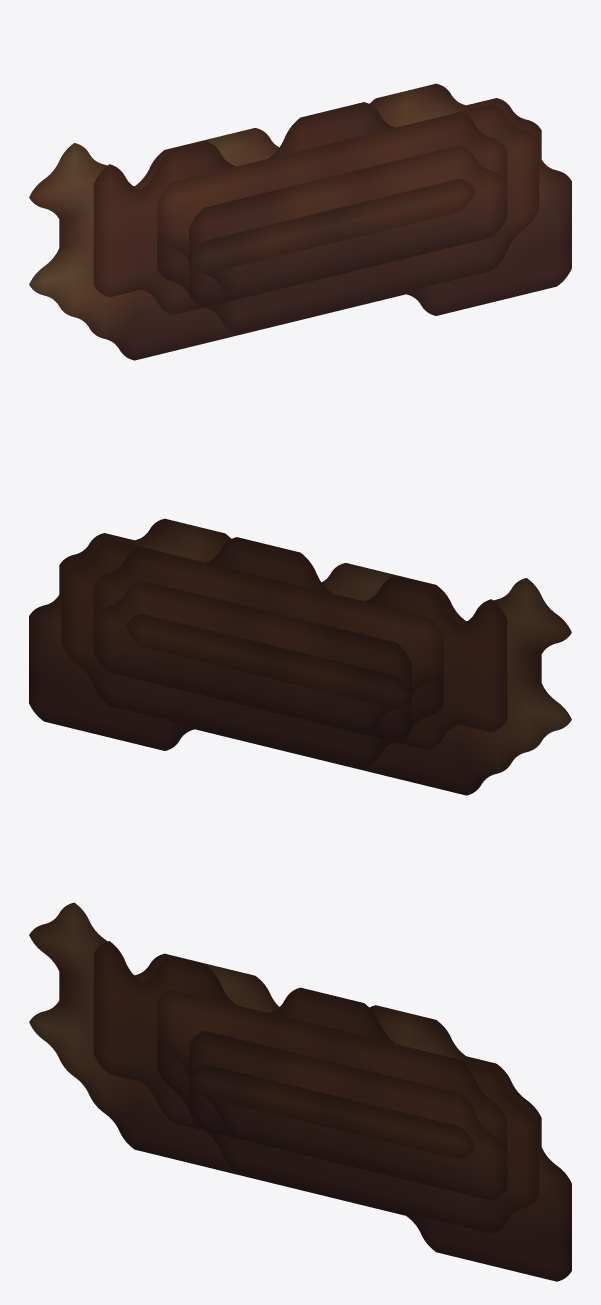
File: Human_Eyebrow_L.fbx
3 views of the same model, one above another, from view 1: azimuth 30°, elevation 25°; view 2: azimuth 150°, elevation 25°; view 3: azimuth 330°, elevation 25° (orthographic).
Parts seen in each view (by area): view 1: Eyebrow_14_L, Eyebrow_02_L, Eyebrow_08_L, Eyebrow_09_L, Eyebrow_03_L, Eyebrow_01_L, Eyebrow_04_L; view 2: Eyebrow_14_L, Eyebrow_02_L, Eyebrow_08_L, Eyebrow_09_L, Eyebrow_03_L, Eyebrow_01_L, Eyebrow_04_L; view 3: Eyebrow_14_L, Eyebrow_02_L, Eyebrow_08_L, Eyebrow_09_L, Eyebrow_03_L, Eyebrow_01_L, Eyebrow_04_L.
Part boxes in pixels (box(x1,y1,x2,y2)): Eyebrow_14_L: box(29, 83, 571, 360); Eyebrow_02_L: box(189, 145, 507, 299); Eyebrow_08_L: box(157, 104, 539, 332); Eyebrow_09_L: box(93, 102, 395, 314); Eyebrow_03_L: box(157, 112, 507, 260); Eyebrow_01_L: box(189, 178, 475, 273); Eyebrow_04_L: box(189, 261, 235, 307); Eyebrow_14_L: box(29, 518, 571, 795); Eyebrow_02_L: box(93, 580, 411, 734); Eyebrow_08_L: box(61, 539, 443, 767); Eyebrow_09_L: box(205, 537, 507, 749); Eyebrow_03_L: box(93, 547, 443, 695); Eyebrow_01_L: box(125, 613, 411, 708); Eyebrow_04_L: box(365, 696, 411, 742); Eyebrow_14_L: box(29, 902, 571, 1281); Eyebrow_02_L: box(189, 1031, 507, 1200); Eyebrow_08_L: box(157, 1036, 539, 1233); Eyebrow_09_L: box(93, 941, 395, 1130); Eyebrow_03_L: box(157, 990, 507, 1153); Eyebrow_01_L: box(189, 1064, 475, 1159); Eyebrow_04_L: box(189, 1077, 236, 1138).
Size of the model in its own units: 0.25 by 0.1111 by 2.09e-07.
Materials: 1 (1 with a texture image).
